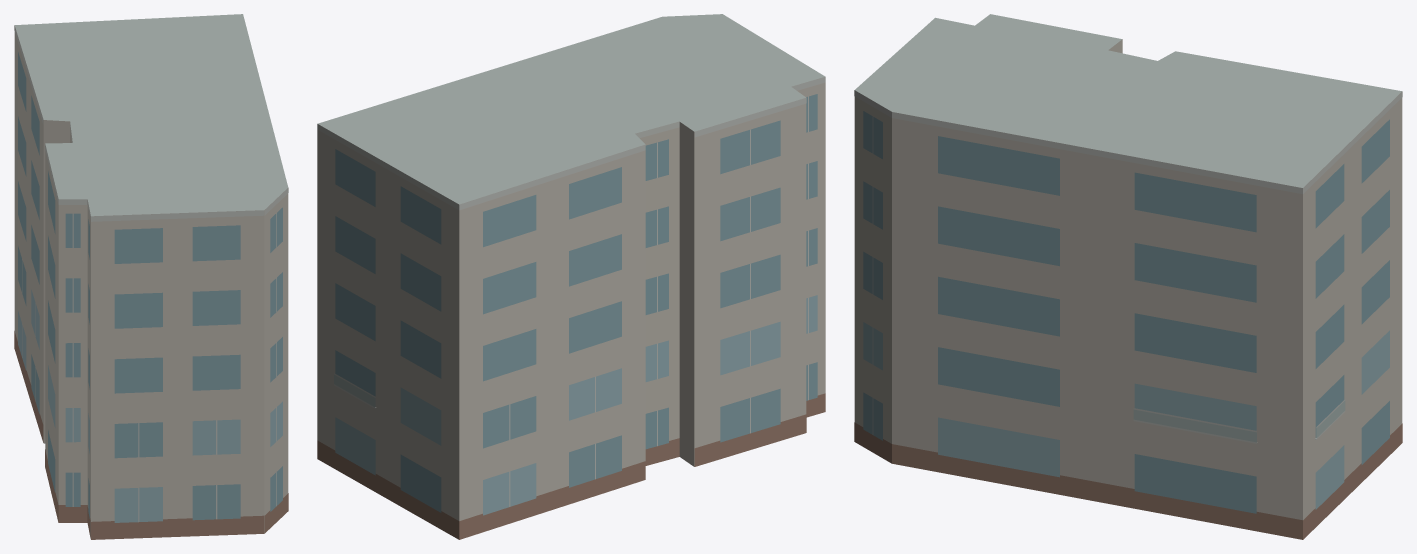
Rendered from survey-upis-32565567.glb.
3 renders of one model, left to right at view 1: azimuth 30°, elevation 25°; view 2: azimuth 150°, elevation 25°; view 3: azimuth 270°, elevation 25°, orthographic. The views are drawn at different scales.
Visible parts, largest first — view 1: survey-upis-32565567.tmp; view 2: survey-upis-32565567.tmp; view 3: survey-upis-32565567.tmp.
Boxes of the visible parts, bbox=[...] form: survey-upis-32565567.tmp: bbox=[14, 14, 288, 539]; survey-upis-32565567.tmp: bbox=[317, 14, 825, 539]; survey-upis-32565567.tmp: bbox=[854, 14, 1402, 539].
Size of the model in its own units: 14.87 by 14 by 19.77.
